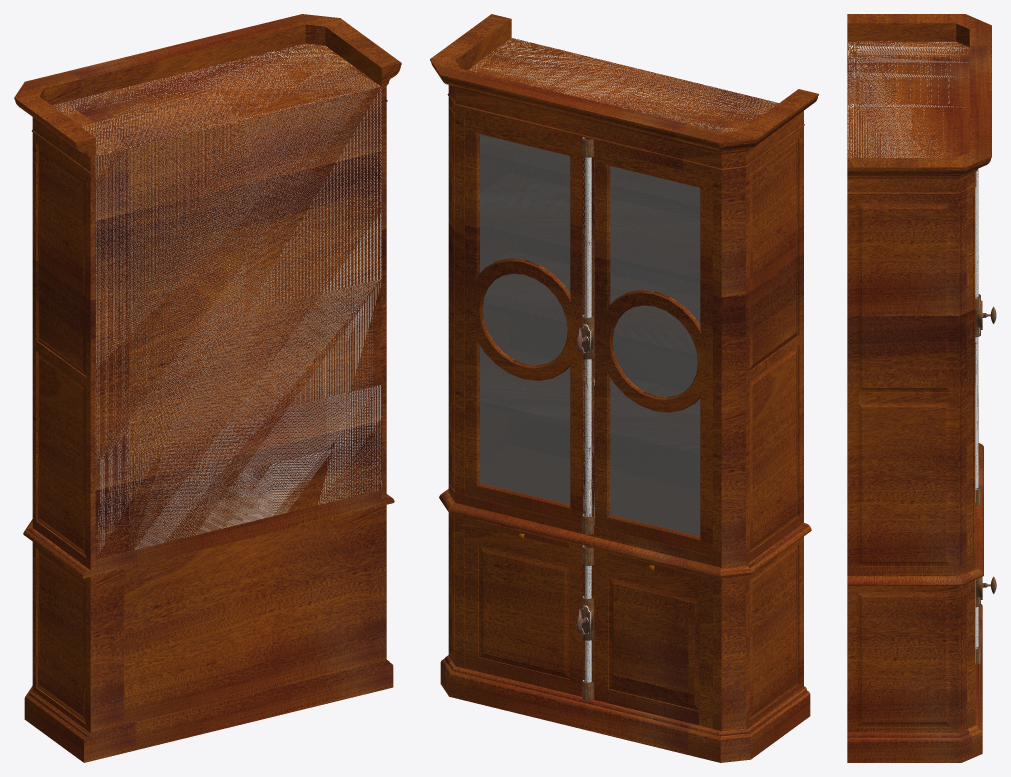
3 views of the same model, side by side, from view 1: azimuth 30°, elevation 25°; view 2: azimuth 150°, elevation 25°; view 3: azimuth 270°, elevation 25° (orthographic). The views are drawn at different scales.
Parts seen in each view (by area): view 1: mesh123_mesh123-geometry, mesh116_mesh116-geometry, mesh55_mesh55-geometry, mesh122_mesh122-geometry, mesh47_mesh47-geometry, mesh103_mesh103-geometry, mesh49_mesh49-geometry; view 2: mesh55_mesh55-geometry, mesh103_mesh103-geometry, mesh84_mesh84-geometry, mesh66_mesh66-geometry, mesh124_mesh124-geometry, mesh113_mesh113-geometry, mesh47_mesh47-geometry, mesh82_mesh82-geometry, mesh81_mesh81-geometry, mesh99_mesh99-geometry, mesh100_mesh100-geometry, mesh122_mesh122-geometry (+7 smaller); view 3: mesh55_mesh55-geometry, mesh103_mesh103-geometry, mesh122_mesh122-geometry, mesh47_mesh47-geometry, mesh49_mesh49-geometry, mesh46_mesh46-geometry, mesh123_mesh123-geometry.
Part boxes in pixels (left/top/right/bottom): mesh123_mesh123-geometry: left=95, top=84, right=381, bottom=559; mesh116_mesh116-geometry: left=95, top=506, right=381, bottom=731; mesh55_mesh55-geometry: left=14, top=14, right=401, bottom=570; mesh122_mesh122-geometry: left=52, top=43, right=378, bottom=153; mesh47_mesh47-geometry: left=24, top=660, right=393, bottom=762; mesh103_mesh103-geometry: left=32, top=505, right=386, bottom=732; mesh49_mesh49-geometry: left=23, top=490, right=394, bottom=578; mesh55_mesh55-geometry: left=430, top=14, right=818, bottom=567; mesh103_mesh103-geometry: left=448, top=512, right=803, bottom=731; mesh84_mesh84-geometry: left=594, top=149, right=712, bottom=555; mesh66_mesh66-geometry: left=464, top=117, right=582, bottom=523; mesh124_mesh124-geometry: left=594, top=560, right=712, bottom=728; mesh113_mesh113-geometry: left=464, top=528, right=582, bottom=696; mesh47_mesh47-geometry: left=440, top=655, right=810, bottom=762; mesh82_mesh82-geometry: left=480, top=345, right=570, bottom=504; mesh81_mesh81-geometry: left=480, top=134, right=570, bottom=293; mesh99_mesh99-geometry: left=610, top=166, right=700, bottom=324; mesh100_mesh100-geometry: left=610, top=378, right=700, bottom=536; mesh122_mesh122-geometry: left=468, top=40, right=775, bottom=132; mesh55_mesh55-geometry: left=847, top=14, right=991, bottom=575; mesh103_mesh103-geometry: left=847, top=580, right=975, bottom=732; mesh122_mesh122-geometry: left=853, top=41, right=969, bottom=157; mesh47_mesh47-geometry: left=847, top=604, right=982, bottom=762; mesh49_mesh49-geometry: left=847, top=443, right=983, bottom=585; mesh46_mesh46-geometry: left=975, top=168, right=978, bottom=501; mesh123_mesh123-geometry: left=847, top=41, right=852, bottom=157.
Bounding box in the file's own units: 0.4718 × 0.8601 × 0.1939.
